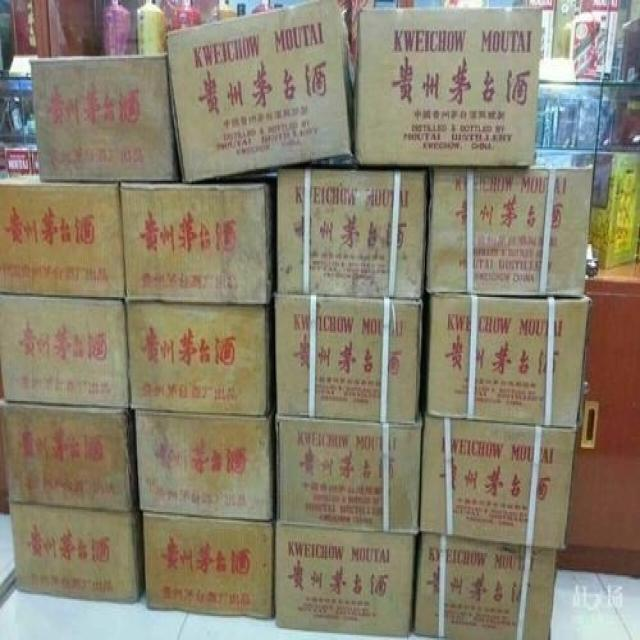box: (164, 2, 352, 179), (355, 7, 543, 166), (426, 164, 594, 297), (426, 294, 589, 427), (420, 416, 576, 550), (276, 167, 428, 300), (31, 53, 178, 183), (274, 294, 421, 422), (120, 181, 271, 304), (275, 418, 425, 534), (275, 415, 422, 531), (127, 302, 271, 415), (276, 521, 417, 635), (134, 410, 274, 521), (0, 176, 125, 299), (415, 532, 556, 640), (0, 297, 131, 408), (143, 512, 274, 618), (9, 503, 146, 602)
